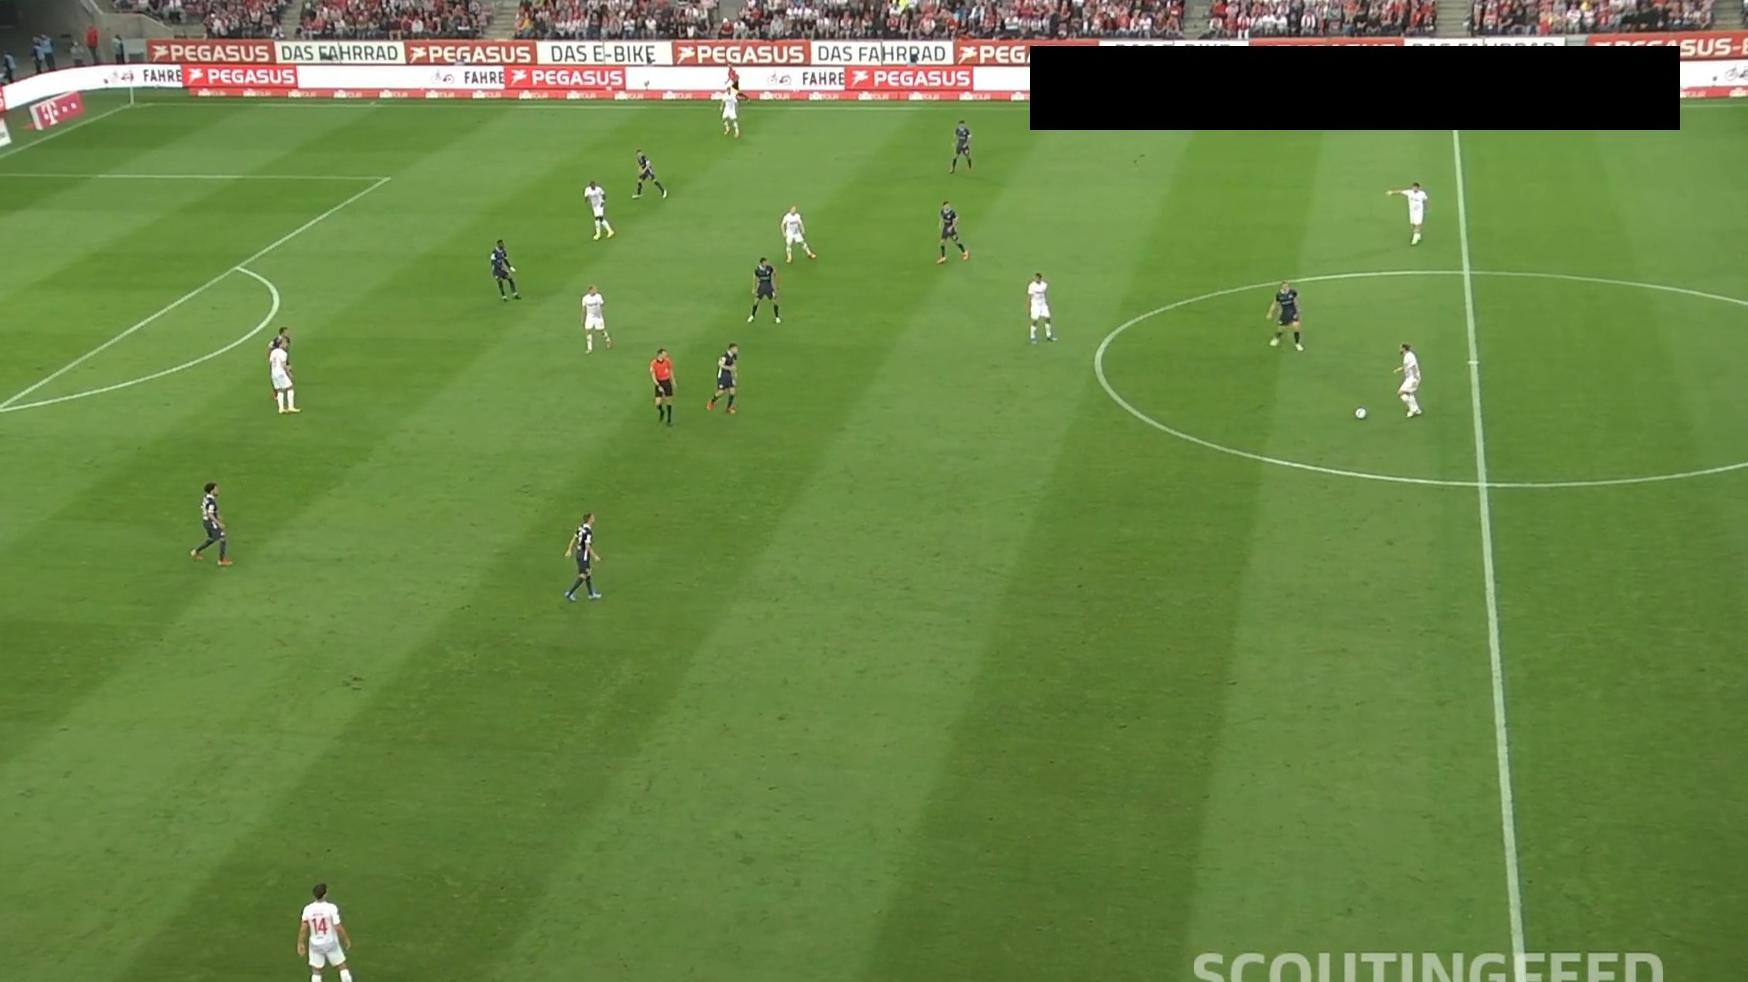ball: (1353, 406, 1367, 421)
